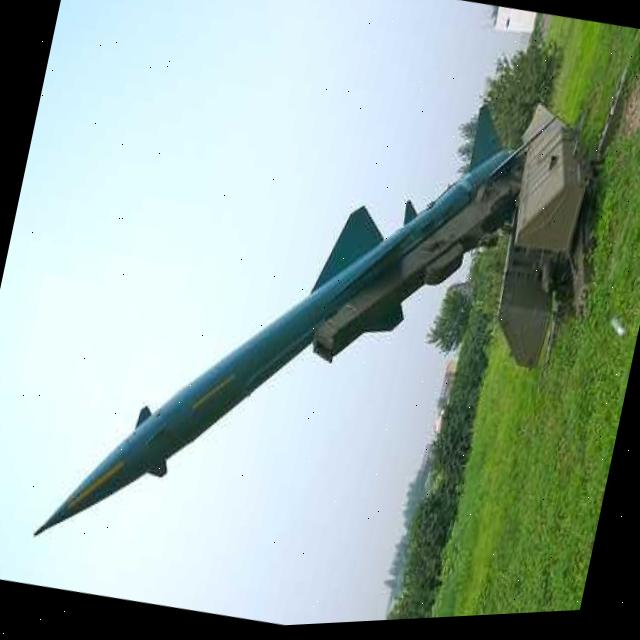missile: (17, 0, 593, 639)
